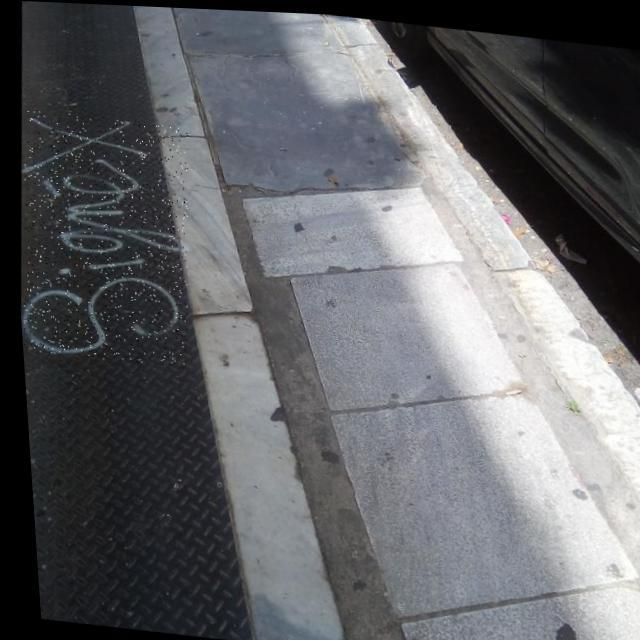-: (6, 107, 199, 367)
